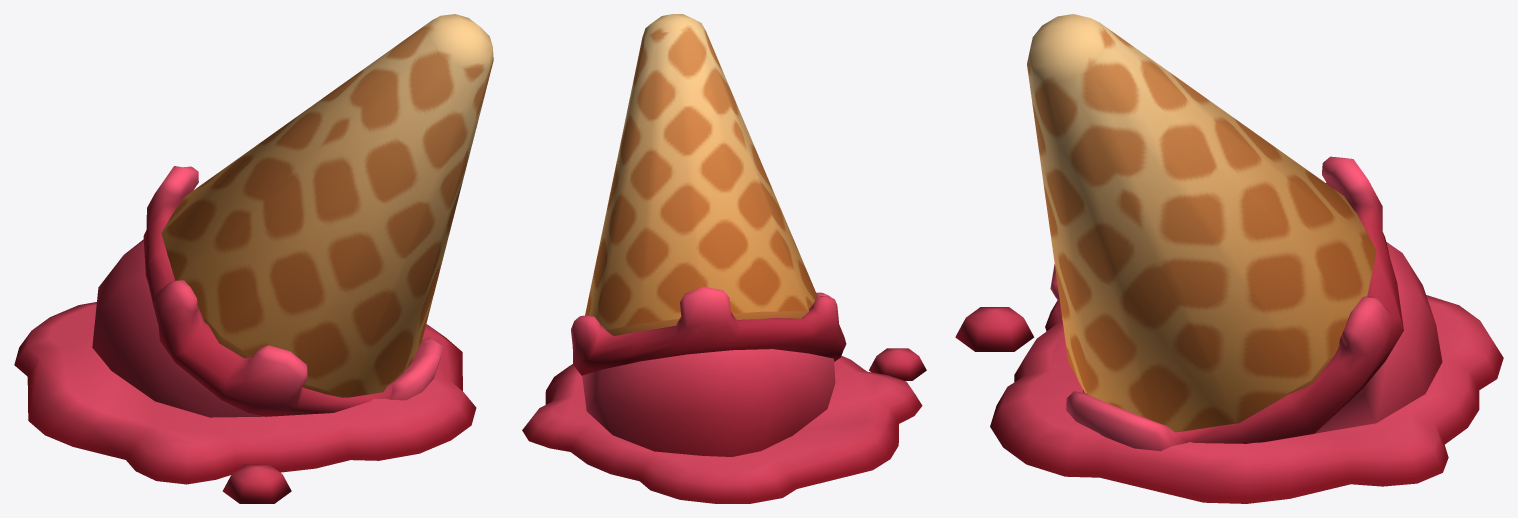
File: m_SpilledIceCream07.fbx
3 renders of one model, left to right at view 1: azimuth 30°, elevation 25°; view 2: azimuth 150°, elevation 25°; view 3: azimuth 270°, elevation 25°, orthographic. The views are drawn at different scales.
Visible parts, largest first — view 1: m_SpilledIceCream07; view 2: m_SpilledIceCream07; view 3: m_SpilledIceCream07.
Part boxes in pixels (x1,y1,x2,y2): m_SpilledIceCream07: (14, 14, 493, 503); m_SpilledIceCream07: (522, 14, 926, 503); m_SpilledIceCream07: (955, 14, 1503, 503).
Size of the model in its own units: 12.21 by 11.36 by 12.68.
